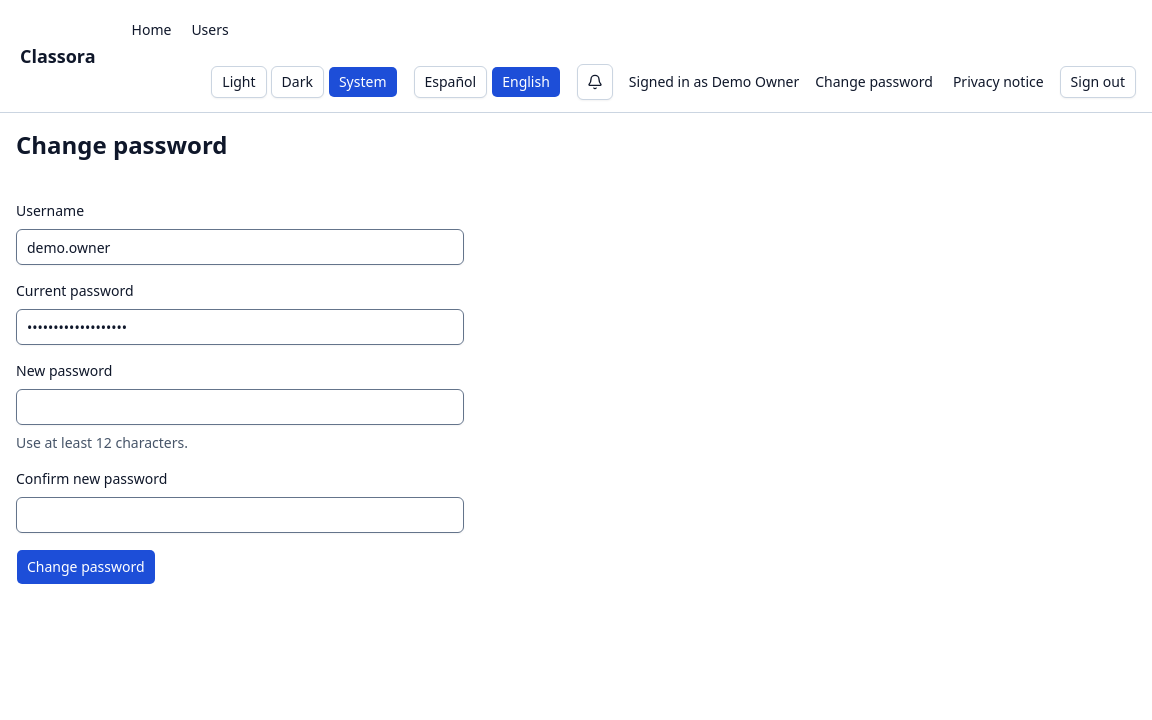
Test: after a change (K3, K4) › switching the language keeps typed values (L2)
Type "my-current-password" into the password field labelled "Current password" at [240, 327], box [16,309,464,345]
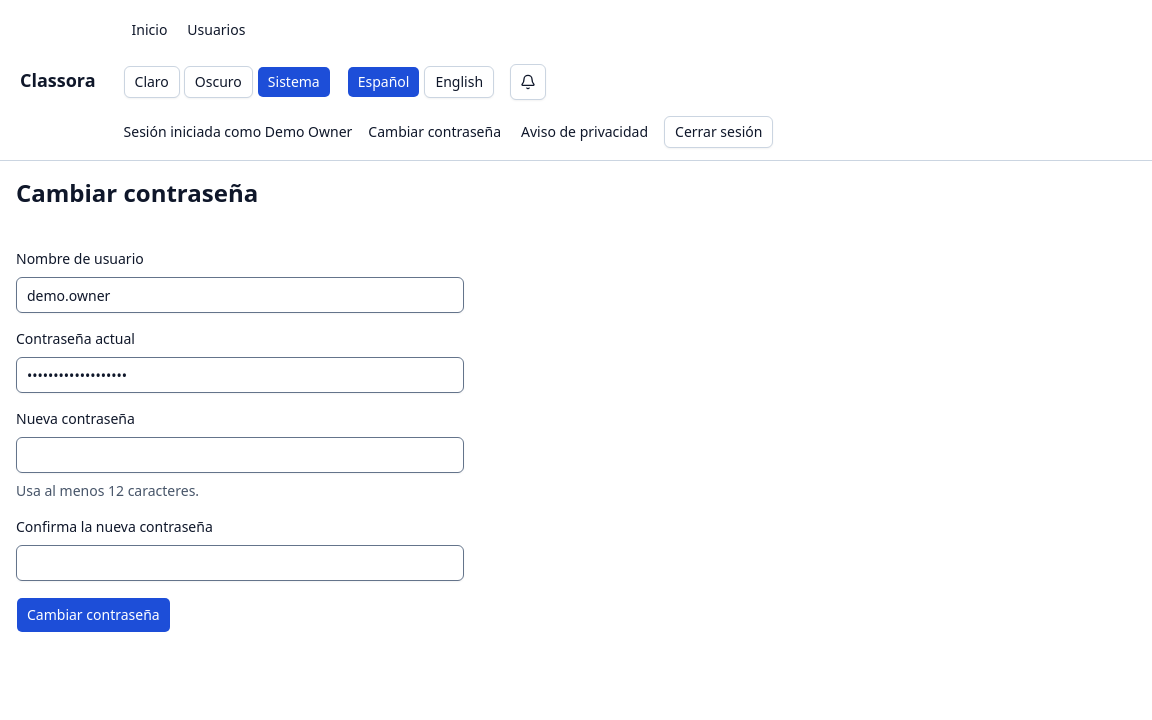
Expected: the heading "Cambiar contraseña" is shown, [16,176,258,209]
